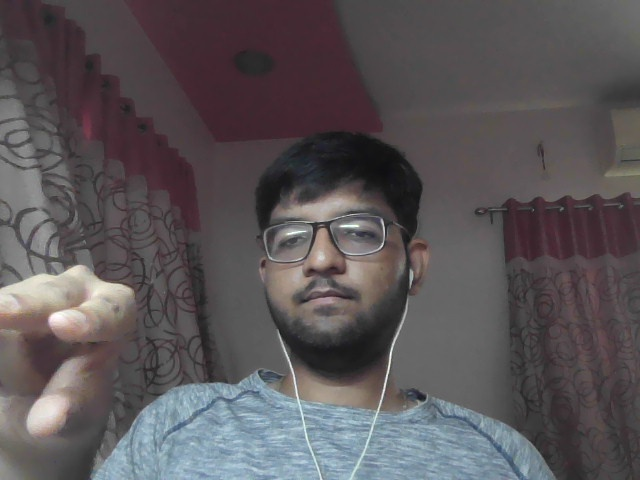ના: (1, 235, 161, 441)
